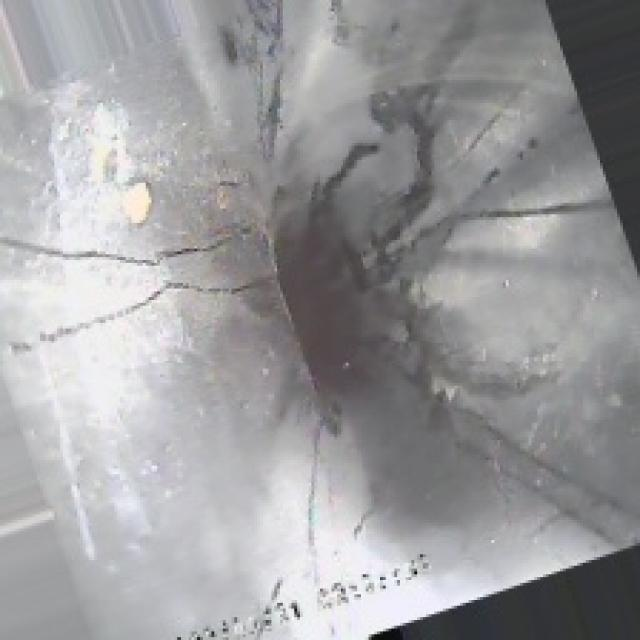shape_deformation: (83, 120, 514, 451)
